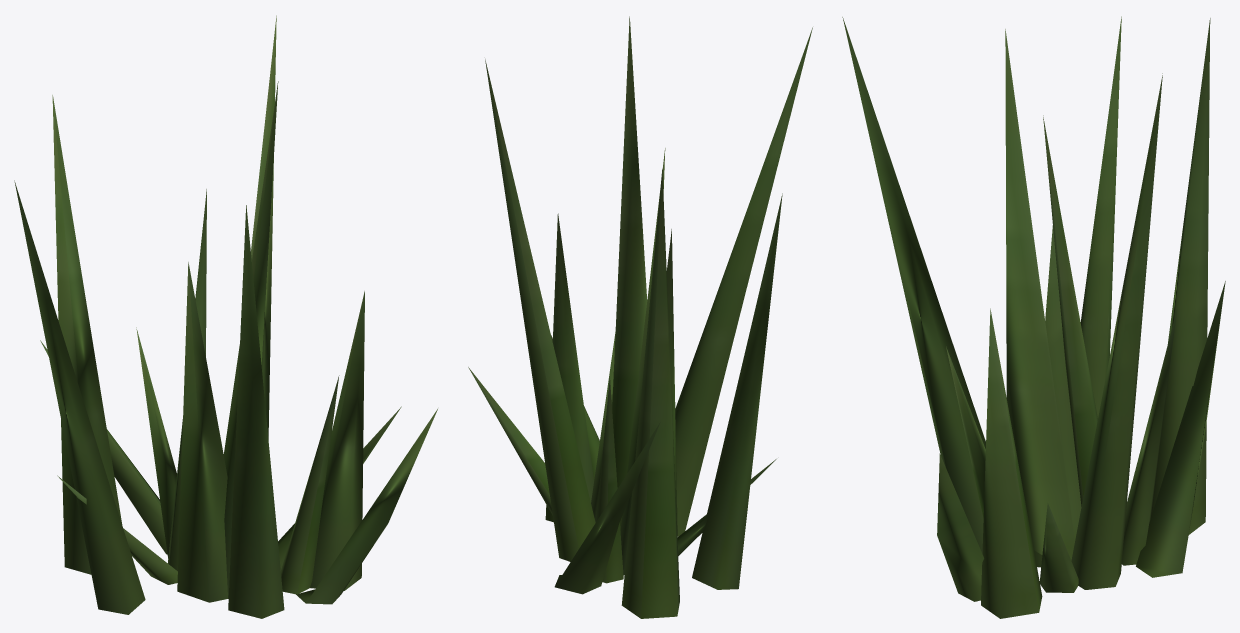
Rendered from jungle-fan-plant.lod1.glb.
3 renders of one model, left to right at view 1: azimuth 30°, elevation 25°; view 2: azimuth 150°, elevation 25°; view 3: azimuth 270°, elevation 25°, orthographic. The views are drawn at different scales.
Parts seen in each view (by area): view 1: SM_JunglePlants_FanPlant_A_LOD0.mo_MI_JunglePlants_FanPlant_; view 2: SM_JunglePlants_FanPlant_A_LOD0.mo_MI_JunglePlants_FanPlant_; view 3: SM_JunglePlants_FanPlant_A_LOD0.mo_MI_JunglePlants_FanPlant_.
Part boxes in pixels (x1,y1,x2,y2): SM_JunglePlants_FanPlant_A_LOD0.mo_MI_JunglePlants_FanPlant_: (14,15,437,618); SM_JunglePlants_FanPlant_A_LOD0.mo_MI_JunglePlants_FanPlant_: (468,16,812,618); SM_JunglePlants_FanPlant_A_LOD0.mo_MI_JunglePlants_FanPlant_: (842,16,1225,618).
Bounding box in the file's own units: 0.5418 × 0.7645 × 0.4793.
Materials: 1 (1 with a texture image).
